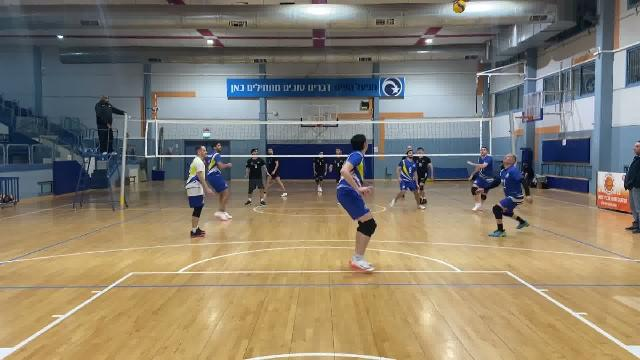ball: (450, 0, 467, 13)
